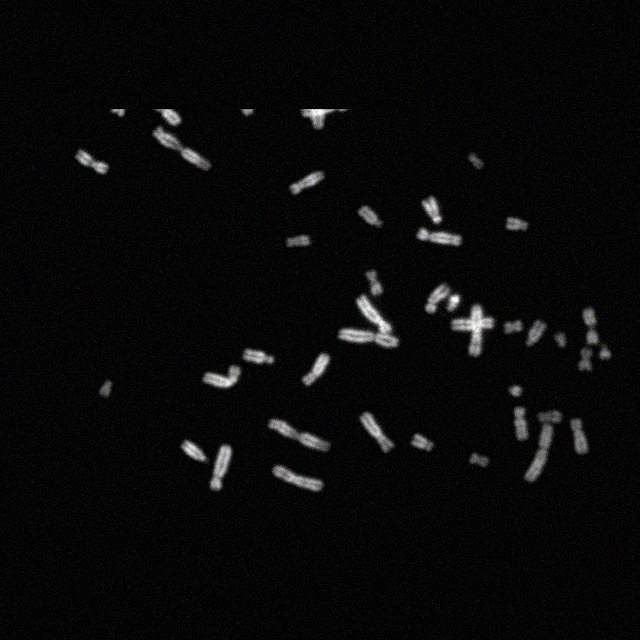chromosome: (153, 126, 211, 170), (270, 419, 330, 451), (524, 424, 552, 482), (273, 464, 323, 492), (361, 412, 394, 452), (357, 295, 391, 333), (338, 329, 398, 347), (210, 445, 232, 489), (302, 354, 330, 386), (74, 150, 108, 174), (424, 283, 450, 313), (202, 366, 240, 386), (290, 172, 324, 194), (417, 228, 461, 245), (469, 305, 483, 357), (570, 418, 588, 454), (582, 308, 598, 344), (421, 196, 441, 224), (358, 205, 382, 227), (526, 320, 546, 346), (452, 318, 493, 330), (182, 440, 206, 460), (243, 348, 273, 364), (513, 406, 527, 440), (411, 433, 433, 451), (366, 270, 382, 294), (156, 109, 180, 125), (578, 348, 592, 372), (286, 235, 310, 247), (469, 453, 489, 467), (538, 411, 562, 422), (507, 218, 528, 230), (447, 294, 461, 312), (504, 321, 522, 334), (468, 153, 482, 169), (312, 110, 324, 128), (100, 379, 112, 396), (508, 384, 522, 396), (555, 332, 565, 348), (600, 345, 610, 359)
